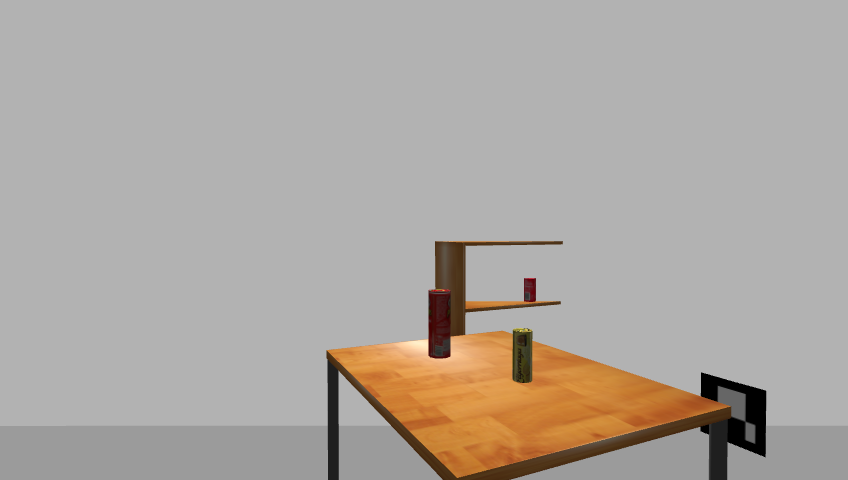aruco marker: (695, 371, 772, 458)
biscuits pack: (511, 328, 534, 385)
bookshelf: (429, 236, 568, 402)
coke can: (522, 277, 539, 304)
dinner table: (316, 332, 738, 480)
pringles can: (427, 289, 452, 360)
